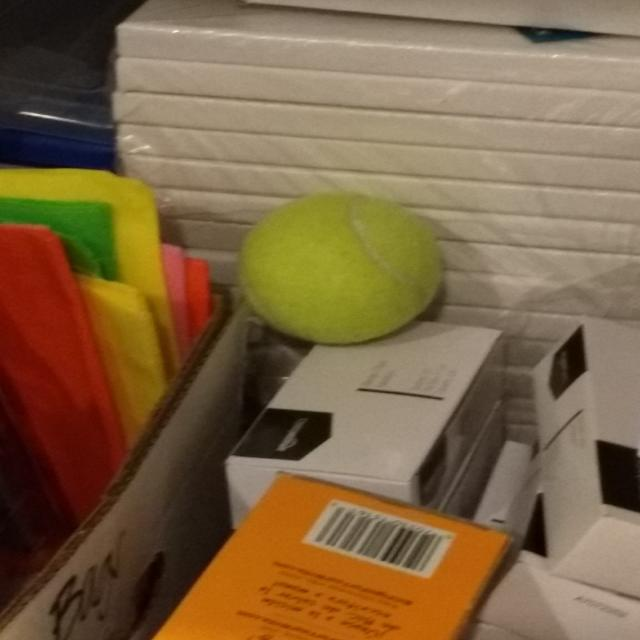Tennis-Ball: (232, 187, 452, 350)
